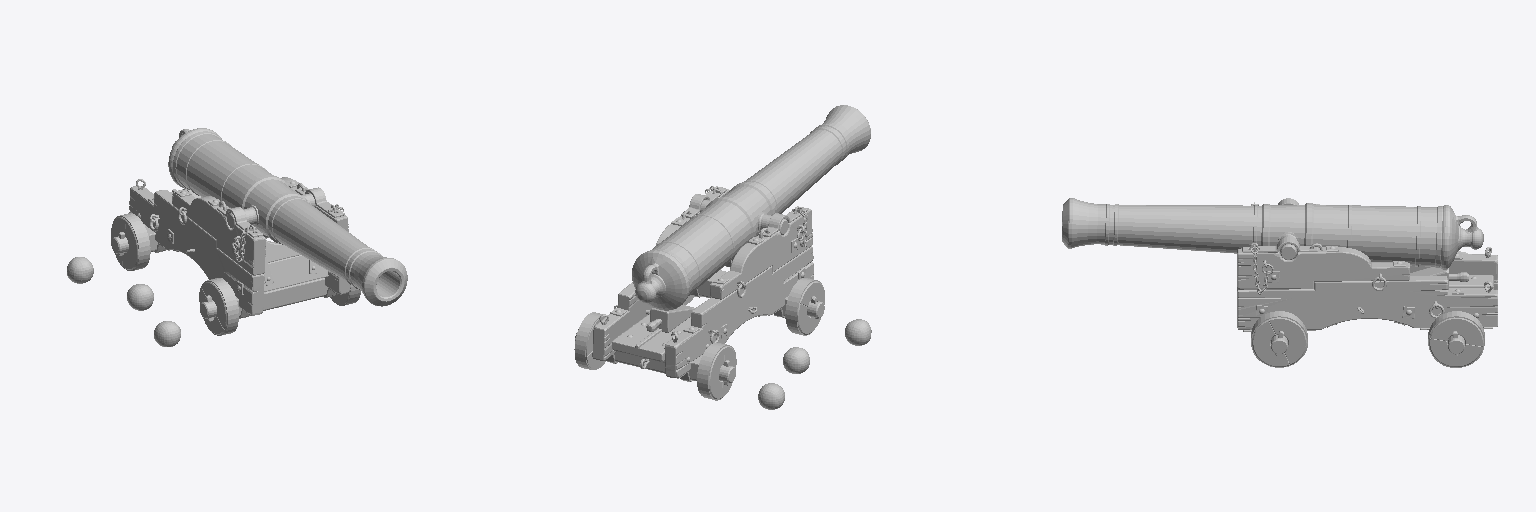
Rendered from cannon_01_4k.obj.
The picture shows the model from 3 angles: view 1: azimuth 30°, elevation 25°; view 2: azimuth 150°, elevation 25°; view 3: azimuth 270°, elevation 25°; orthographic projection.
Visible parts, largest first — view 1: cannon_01_frame, cannon_01_barrel, cannon_01_wheel_02, cannon_01_wheel_01, cannon_01_ball_02, cannon_01_ball_03, cannon_01_ball_01; view 2: cannon_01_frame, cannon_01_barrel, cannon_01_wheel_01, cannon_01_wheel_02, cannon_01_wheel_04, cannon_01_pusherblock, cannon_01_ball_02, cannon_01_ball_03, cannon_01_ball_01; view 3: cannon_01_barrel, cannon_01_frame, cannon_01_wheel_04, cannon_01_wheel_03.
Boxes of the visible parts, <box> form: cannon_01_frame: <box>111,177,350,321</box>; cannon_01_barrel: <box>168,128,407,306</box>; cannon_01_wheel_02: <box>111,213,150,270</box>; cannon_01_wheel_01: <box>199,278,238,335</box>; cannon_01_ball_02: <box>127,284,153,310</box>; cannon_01_ball_03: <box>67,257,93,283</box>; cannon_01_ball_01: <box>154,321,180,346</box>; cannon_01_frame: <box>575,186,824,385</box>; cannon_01_barrel: <box>632,105,870,310</box>; cannon_01_wheel_01: <box>785,278,824,335</box>; cannon_01_wheel_02: <box>697,342,736,400</box>; cannon_01_wheel_04: <box>574,312,605,369</box>; cannon_01_pusherblock: <box>646,305,694,332</box>; cannon_01_ball_02: <box>783,347,809,373</box>; cannon_01_ball_03: <box>758,383,784,409</box>; cannon_01_ball_01: <box>845,319,871,345</box>; cannon_01_barrel: <box>1062,198,1483,269</box>; cannon_01_frame: <box>1237,198,1497,355</box>; cannon_01_wheel_04: <box>1428,311,1484,367</box>; cannon_01_wheel_03: <box>1251,311,1307,367</box>.
Bounding box in the file's own units: 1.23 × 0.7869 × 2.3.